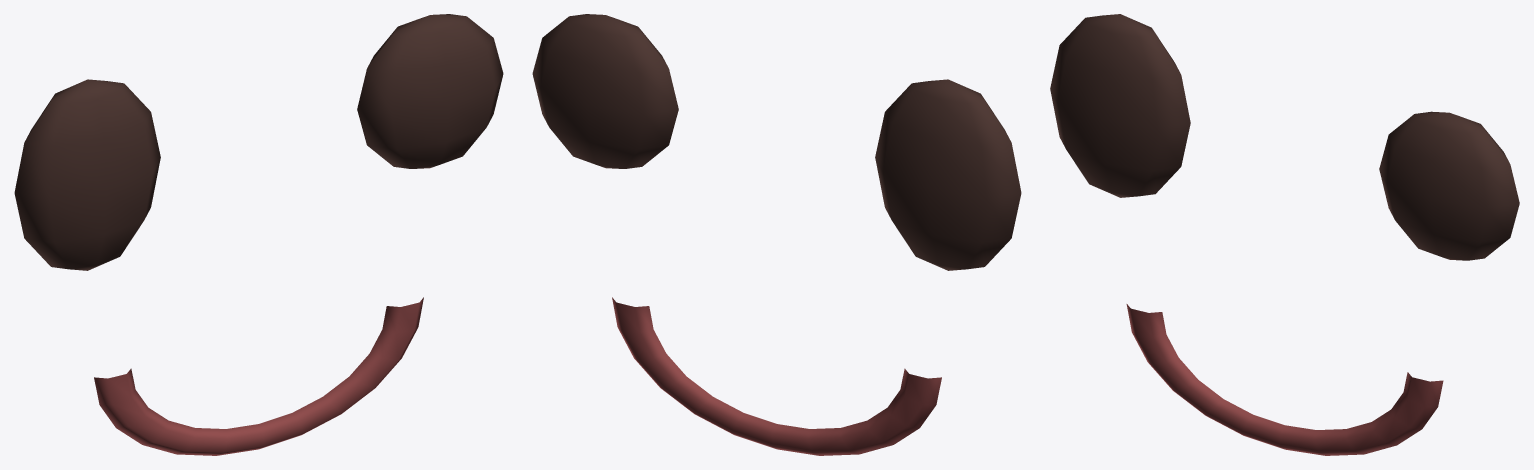
File: determined_face.glb
The picture shows the model from 3 angles, left to right: view 1: azimuth 30°, elevation 25°; view 2: azimuth 150°, elevation 25°; view 3: azimuth 330°, elevation 25°; orthographic projection. The views are drawn at different scales.
Parts seen in each view (by area): view 1: eye_l, eye_r, mouth; view 2: eye_l, eye_r, mouth; view 3: eye_l, eye_r, mouth.
Boxes of the visible parts, x1,y1,x2,y2 form: eye_l: (14, 79, 160, 270); eye_r: (357, 14, 503, 168); mouth: (94, 297, 423, 455); eye_l: (875, 79, 1021, 270); eye_r: (532, 14, 678, 168); mouth: (612, 297, 941, 455); eye_l: (1050, 14, 1190, 197); eye_r: (1379, 111, 1519, 260); mouth: (1126, 304, 1443, 455).
Size of the model in its own units: 0.314 by 0.2526 by 0.0423.
